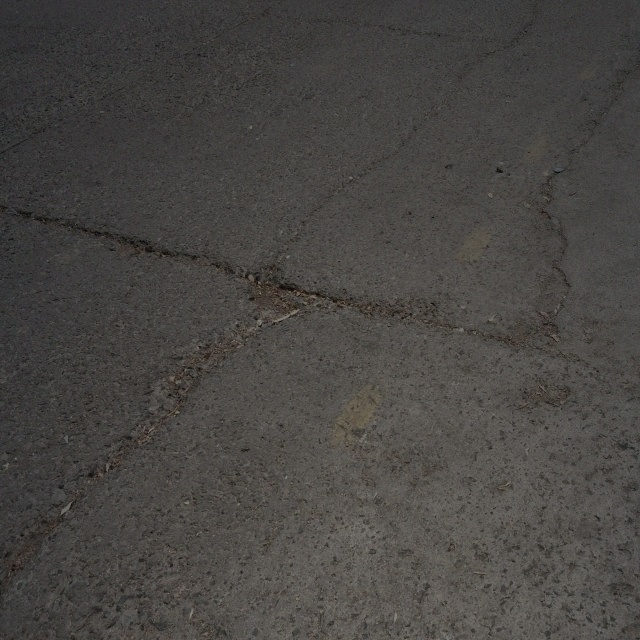pothole: (250, 270, 316, 320), (115, 235, 146, 260)
